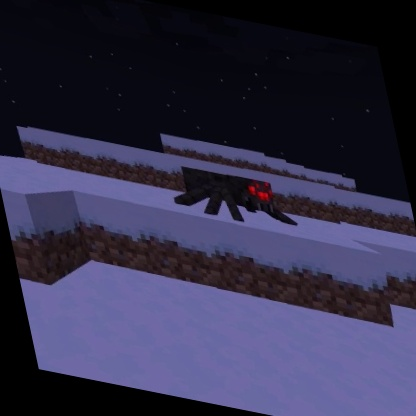spider: (159, 157, 302, 237)
